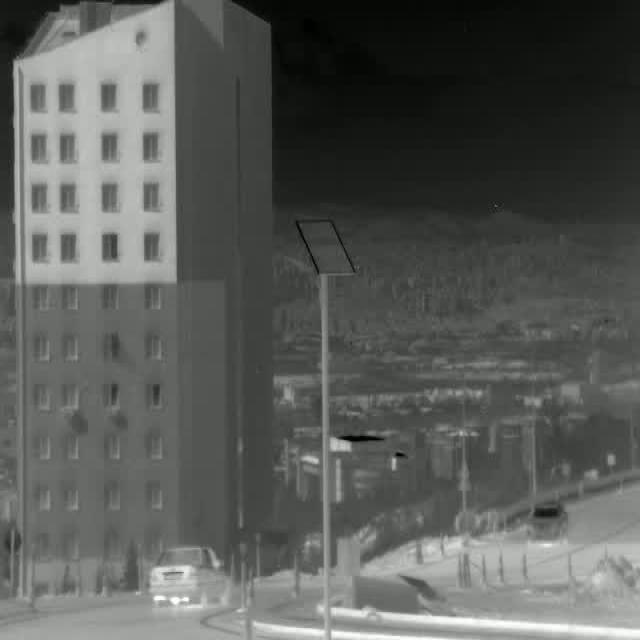Car: (148, 546, 234, 606), (526, 503, 572, 541)
